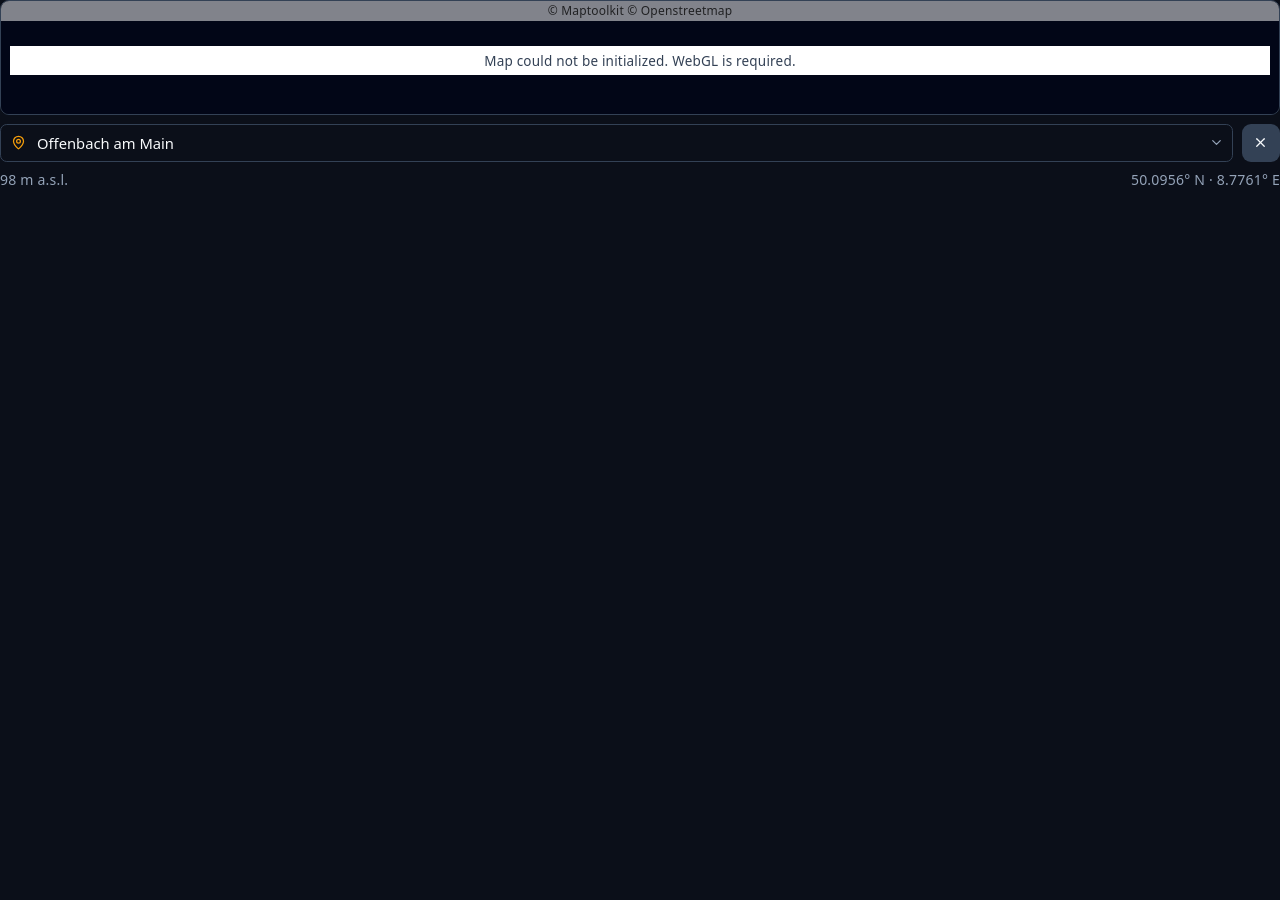
Test: LocationSelector Component › Full-Screen Map Location Picker Mode › clicking embedded map preview opens full-screen picker modal with OK and Cancel buttons
Expected: the text "Cancel" is not shown
Expected: the text "OK" is not shown
Click the element with class "map-wrapper" at x=640, y=57, box top-left (0, 0), bottom-right (1279, 114)
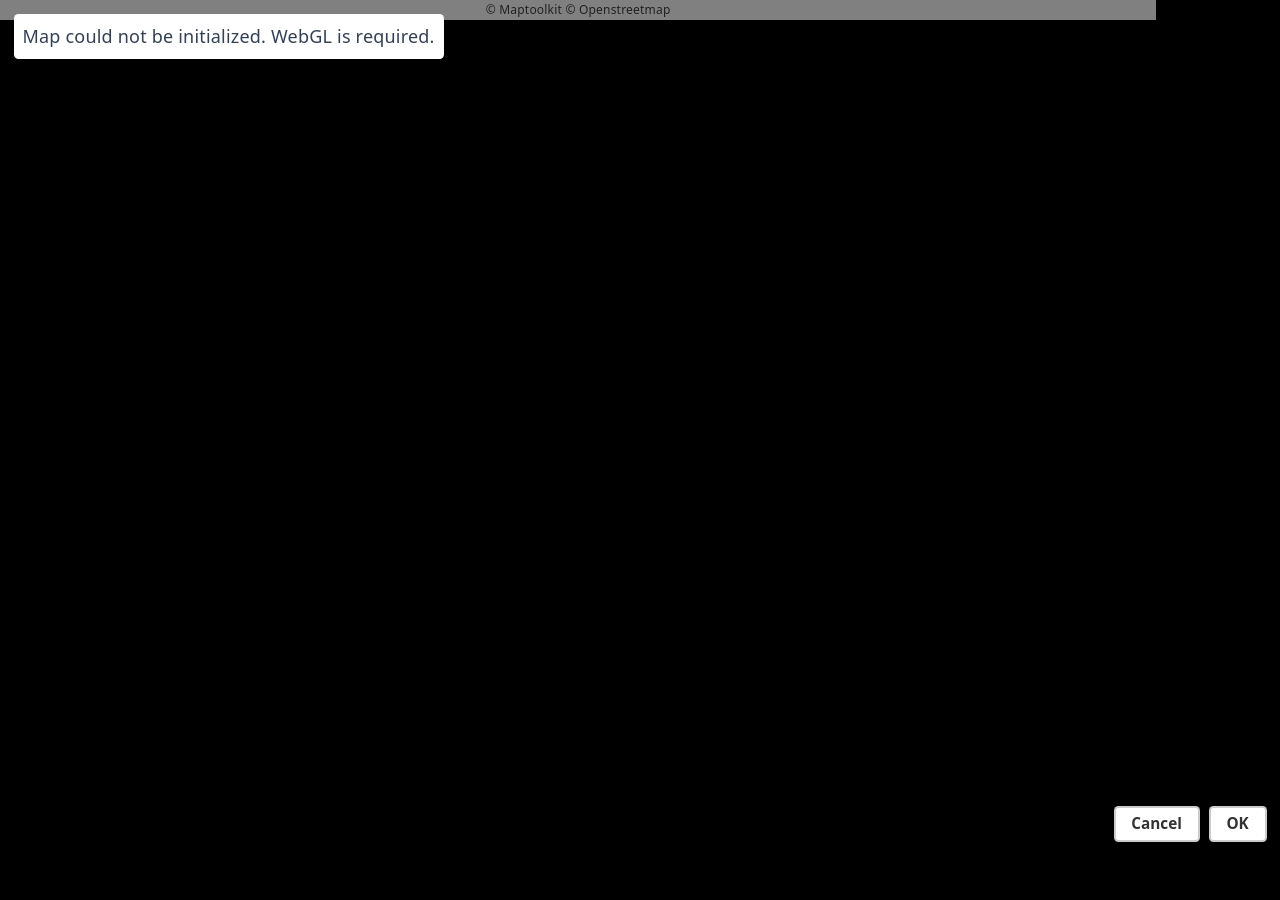
Expected: the button "Cancel" is shown, top-left (1114, 806), bottom-right (1200, 842)
Expected: the button "OK" is shown, top-left (1209, 806), bottom-right (1266, 842)
Expected: the element with class "fullscreen-map-modal" is shown
